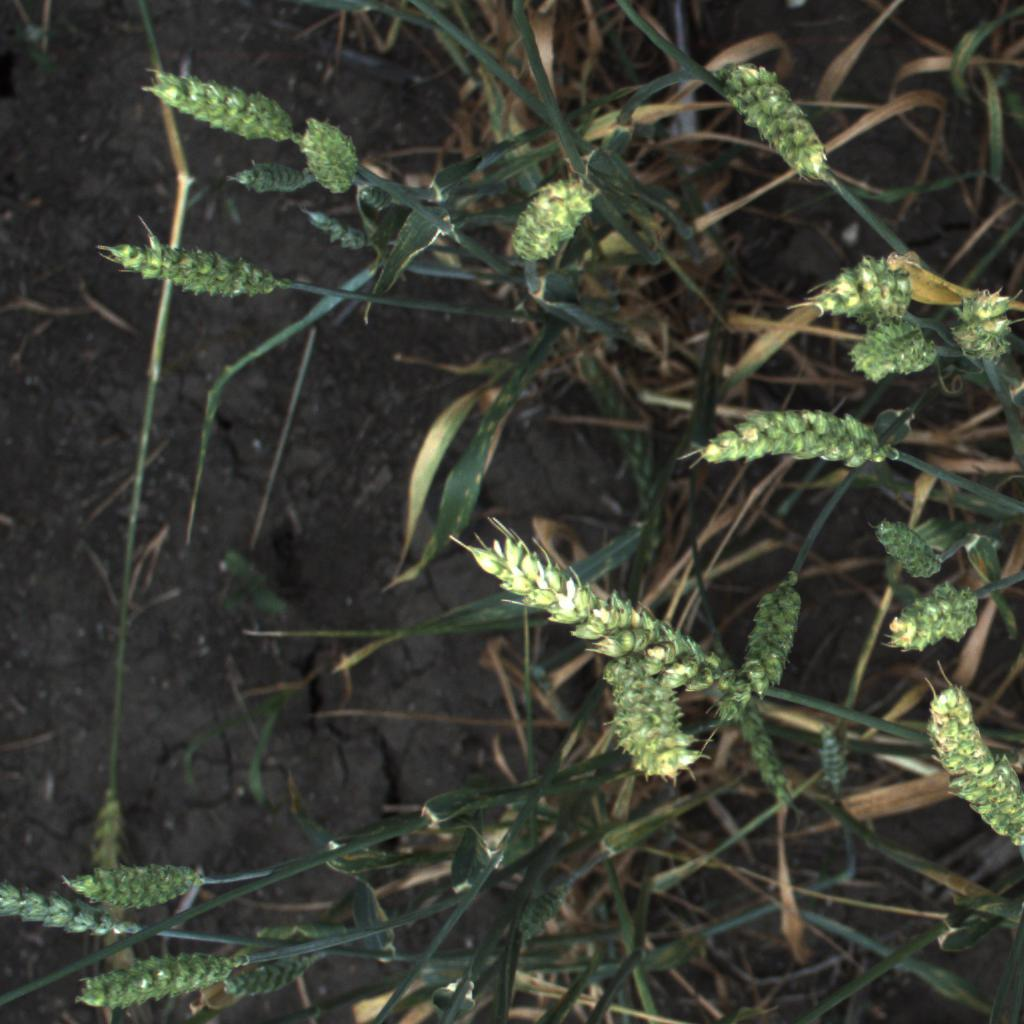0-0: (468, 522, 726, 710), (714, 559, 865, 806), (906, 660, 1024, 867), (94, 218, 301, 318), (685, 396, 906, 482), (134, 54, 309, 155), (717, 54, 840, 197), (67, 935, 262, 1015), (603, 648, 706, 784), (0, 871, 163, 953), (54, 838, 215, 917), (502, 156, 605, 275), (799, 237, 923, 329), (871, 573, 999, 662), (729, 690, 811, 819), (217, 935, 350, 1005), (857, 509, 960, 589), (840, 312, 945, 383), (294, 107, 371, 202), (944, 283, 1021, 370), (220, 155, 323, 197), (519, 886, 567, 933)
